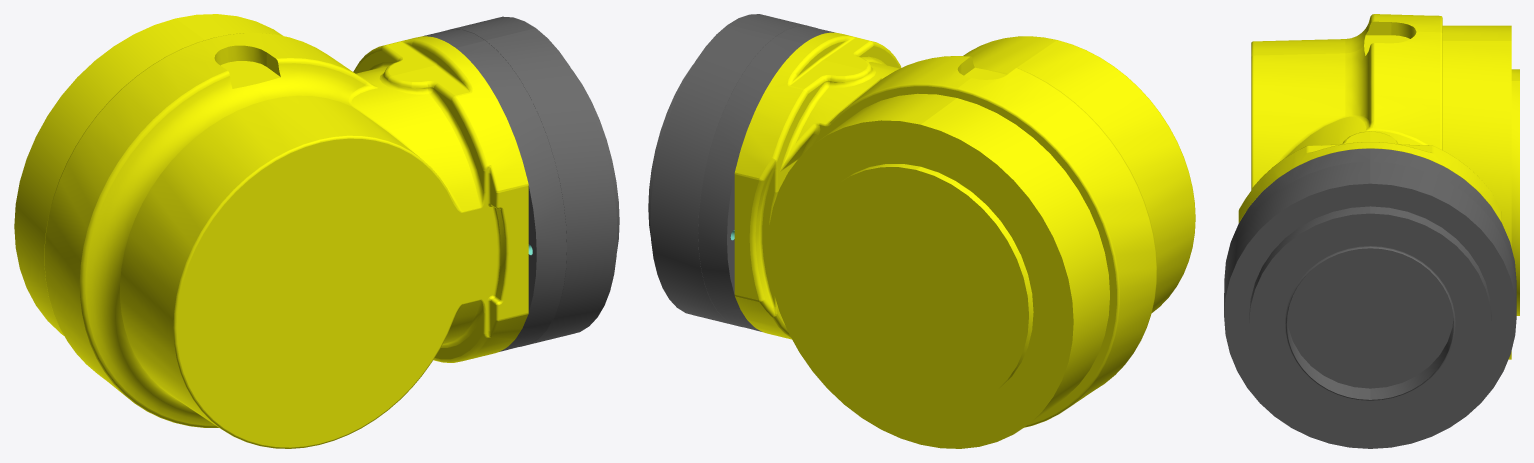
3 renders of one model, left to right at view 1: azimuth 30°, elevation 25°; view 2: azimuth 150°, elevation 25°; view 3: azimuth 270°, elevation 25°, orthographic. The views are drawn at different scales.
Visible parts, largest first — view 1: Mesh_0.005; view 2: Mesh_0.005; view 3: Mesh_0.005.
Boxes of the visible parts, <box> form: Mesh_0.005: <box>14,14,619,448</box>; Mesh_0.005: <box>648,14,1195,448</box>; Mesh_0.005: <box>1224,14,1519,448</box>.
Bounding box in the file's own units: 0.1171 × 0.0707 × 0.0852.
